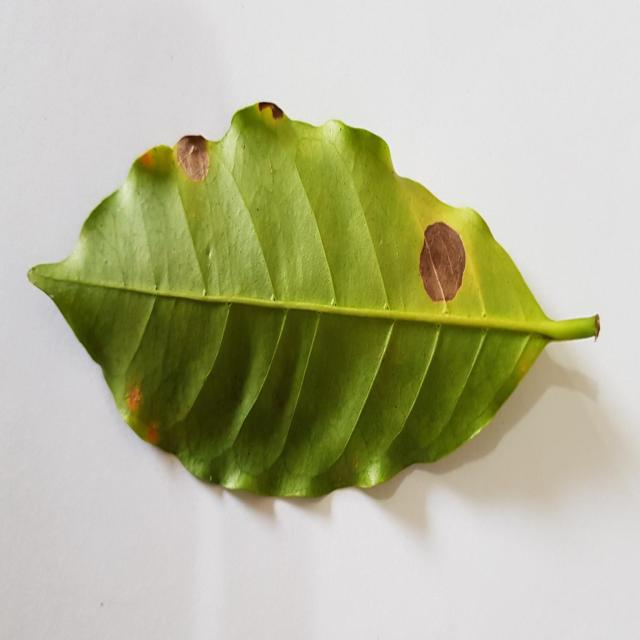Enfermedad-Mancha-de-hierro: (26, 102, 602, 504)
